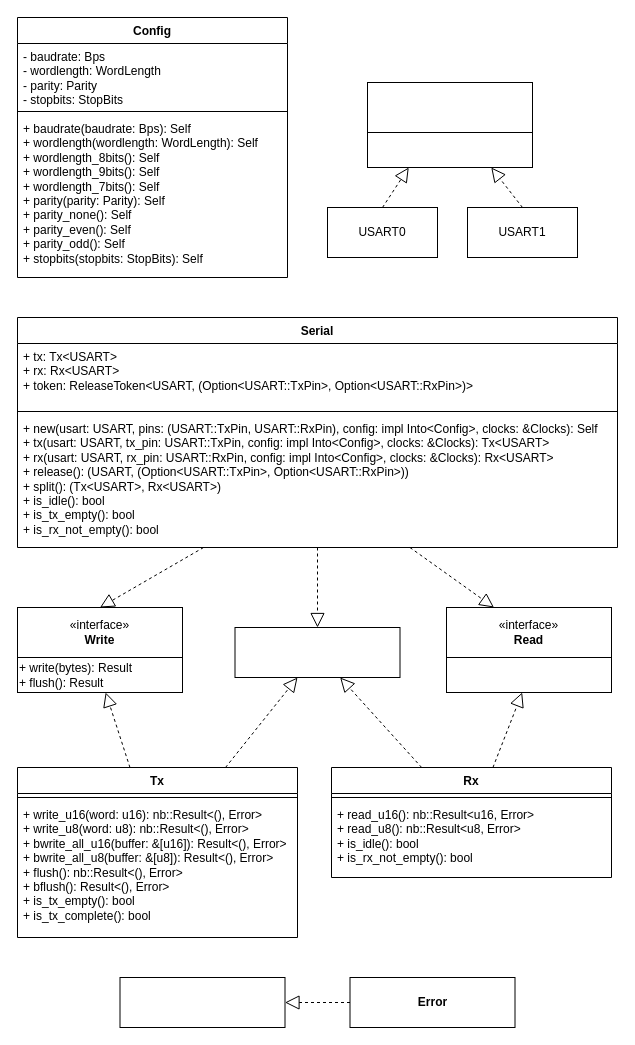
The diagram is 635 pixels wide and 1045 high, and some of its shapes have lost their labels. The shapes that lost their labels are listed below. From the top down, each one's centre as x and y in pixels, then its label:
At (449,107): "«interface» Instance".
At (449,150): "+ ptr(): *const RegisterBlock + enable()".
At (317,652): "«interface» ErrorType".
At (529,674): "+ read(): Result<byte>".
At (202,1002): "«interface» Error".
